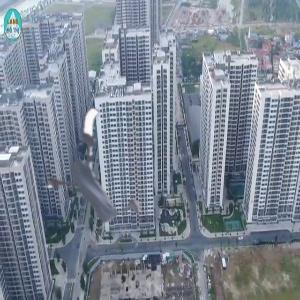drone: (39, 123, 163, 247)
